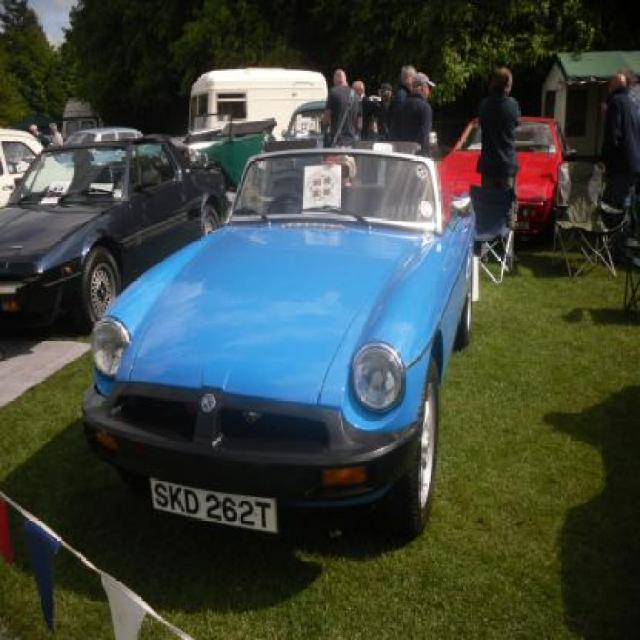truck: (74, 138, 480, 540), (0, 135, 225, 339), (428, 105, 580, 238), (192, 100, 330, 194), (0, 125, 45, 212)
